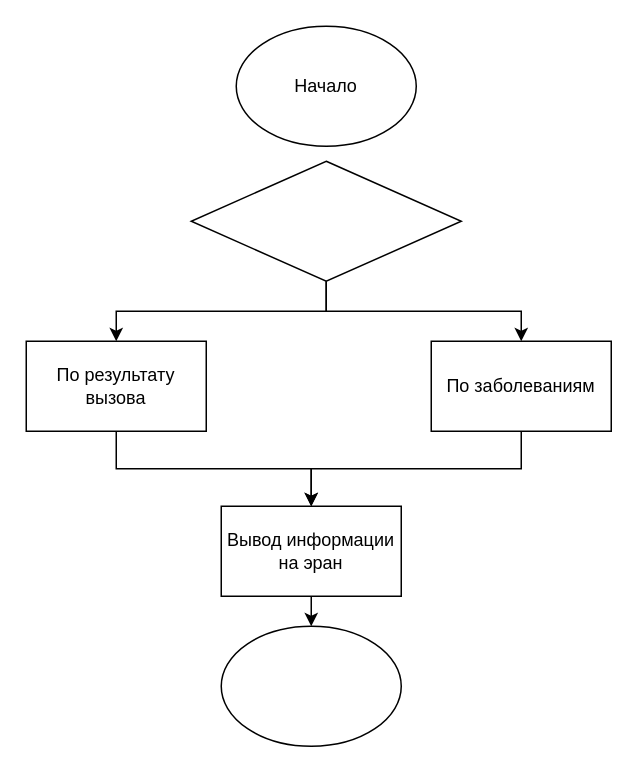
This 638x773 diagram has some shape labels left out. Here are the shapes that lost their labels. From the top down, the centre of each, then its label:
At (x=325, y=220): "Выбор категории".
At (x=310, y=685): "Конец".
